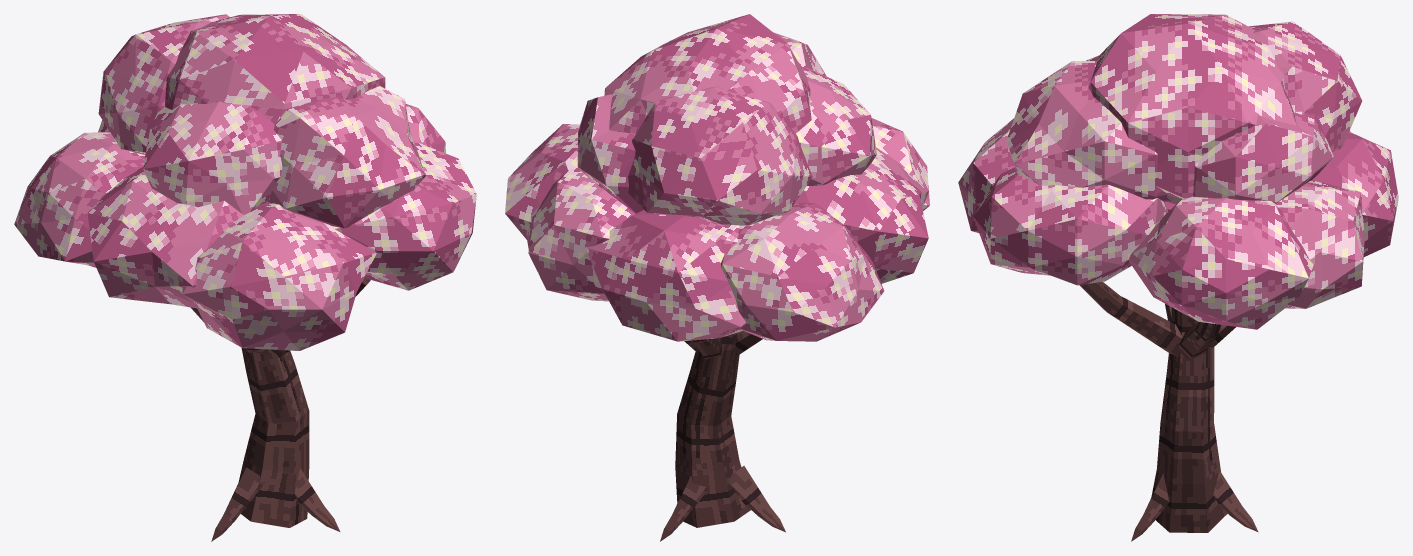
Rendered from tree_cherry.glb.
The picture shows the model from 3 angles, left to right: view 1: azimuth 30°, elevation 25°; view 2: azimuth 150°, elevation 25°; view 3: azimuth 270°, elevation 25°; orthographic projection. The views are drawn at different scales.
Visible parts, largest first — view 1: tree_cherry; view 2: tree_cherry; view 3: tree_cherry.
Part boxes in pixels (x1=…): tree_cherry: x1=14, y1=14, x2=476, y2=541; tree_cherry: x1=505, y1=14, x2=929, y2=541; tree_cherry: x1=958, y1=14, x2=1398, y2=541.
Size of the model in its own units: 2.54 by 3.2 by 2.56.
2 materials, 2 textured.
